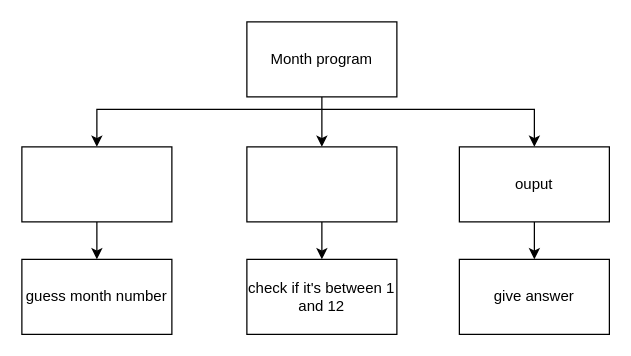
The diagram is 631 pixels wide and 356 high, and some of its shapes have lost their labels. Here are the shapes that lost their labels. From the top down, the centre of each, then its label:
At (96,184): "input".
At (321,184): "process".
